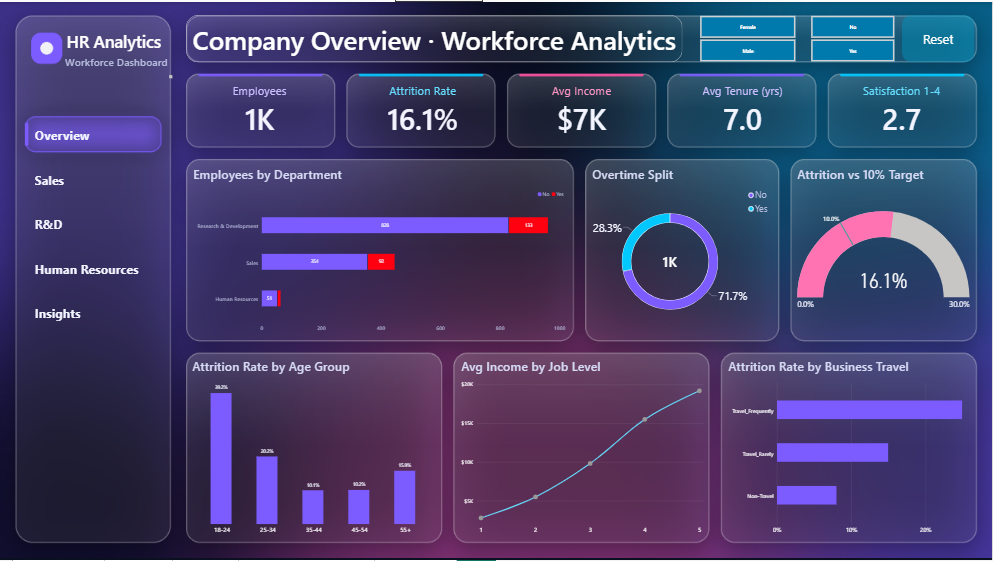

What the dashboard file says about the page in this screenshot:
{"tool":"powerbi","page":{"name":"Overview","canvas":[2560,1440],"ordinal":0},"visuals":[{"type":"actionButton","box":[70,303.3,353.3,76.7],"z":0},{"type":"cardVisual","fields":{"Data":["HR.Page Title"]},"box":[479.1,34,1281.3,122],"z":1000},{"type":"textbox","title":"HR Analytics","box":[165,73.3,256.7,55],"z":2000},{"type":"textbox","title":"Workforce Dashboard","box":[166.7,136.7,276.7,60],"z":3000},{"type":"actionButton","box":[70,765,353,76],"z":4000},{"type":"actionButton","box":[70,420,353,76],"z":5000},{"type":"actionButton","box":[70,650,353,76],"z":6000},{"type":"actionButton","box":[70,535,353,76],"z":7000},{"type":"cardVisual","fields":{"Data":["HR.Total Employees"]},"box":[480,185,380,186.7],"z":8000},{"type":"cardVisual","fields":{"Data":["HR.Attrition Rate"]},"box":[900,186.7,380,186.7],"z":9000},{"type":"cardVisual","fields":{"Data":["HR.Avg Monthly Income"]},"box":[1310,186.7,380,186.7],"z":10000},{"type":"cardVisual","fields":{"Data":["HR.Avg Tenure"]},"box":[1726.7,186.7,380,186.7],"z":11000},{"type":"cardVisual","fields":{"Data":["HR.Avg Job Satisfaction"]},"box":[2136.7,186.7,380,186.7],"z":12000},{"type":"barChart","title":"Employees by Department","fields":{"Category":["HR.Department"],"Series":["HR.Attrition"],"Y":["HR.Total Employees"]},"box":[482,407,993.3,465],"z":13000},{"type":"donutChart","title":"Overtime Split","fields":{"Category":["HR.OverTime"],"Y":["HR.Total Employees"]},"box":[1513.3,406.7,493.3,466.7],"z":14000},{"type":"gauge","title":"Attrition vs 10% Target","fields":{"TargetValue":["HR.Attrition Target"],"Y":["HR.Attrition Rate"]},"box":[2040,406.7,476.7,466.7],"z":15000},{"type":"clusteredColumnChart","title":"Attrition Rate by Age Group","fields":{"Category":["HR.AgeGroup"],"Y":["HR.Attrition Rate"]},"box":[480,903.3,660,490],"z":16000},{"type":"lineChart","title":"Avg Income by Job Level","fields":{"Category":["HR.JobLevel"],"Y":["HR.Avg Monthly Income"]},"box":[1173.3,903.3,656.7,490],"z":17000},{"type":"clusteredBarChart","title":"Attrition Rate by Business Travel","fields":{"Category":["HR.BusinessTravel"],"Y":["HR.Attrition Rate"]},"box":[1863.3,903.3,653.3,490],"z":18000},{"type":"slicer","fields":{"Values":["HR.Gender"]},"box":[1785.8,34,286.3,122],"z":19000},{"type":"slicer","fields":{"Values":["HR.OverTime"]},"box":[2072.1,34,255.1,122],"z":20000},{"type":"actionButton","box":[2327.2,34,187.1,122],"z":21000}]}

Visuals, with their boxes in screenshot pixels (x1, y1, x2, y2), scaled from the page's 2560x1440 canvas onto the 993x561 screenshot:
actionButton: pyautogui.locateOnScreen(27, 118, 164, 148)
cardVisual - HR.Page Title: pyautogui.locateOnScreen(186, 13, 683, 61)
"HR Analytics" textbox: pyautogui.locateOnScreen(64, 29, 164, 50)
"Workforce Dashboard" textbox: pyautogui.locateOnScreen(65, 53, 172, 77)
actionButton: pyautogui.locateOnScreen(27, 298, 164, 328)
actionButton: pyautogui.locateOnScreen(27, 164, 164, 193)
actionButton: pyautogui.locateOnScreen(27, 253, 164, 283)
actionButton: pyautogui.locateOnScreen(27, 208, 164, 238)
cardVisual - HR.Total Employees: pyautogui.locateOnScreen(186, 72, 334, 145)
cardVisual - HR.Attrition Rate: pyautogui.locateOnScreen(349, 73, 496, 145)
cardVisual - HR.Avg Monthly Income: pyautogui.locateOnScreen(508, 73, 656, 145)
cardVisual - HR.Avg Tenure: pyautogui.locateOnScreen(670, 73, 817, 145)
cardVisual - HR.Avg Job Satisfaction: pyautogui.locateOnScreen(829, 73, 976, 145)
"Employees by Department" barChart: pyautogui.locateOnScreen(187, 159, 572, 340)
"Overtime Split" donutChart: pyautogui.locateOnScreen(587, 158, 778, 340)
"Attrition vs 10% Target" gauge: pyautogui.locateOnScreen(791, 158, 976, 340)
"Attrition Rate by Age Group" clusteredColumnChart: pyautogui.locateOnScreen(186, 352, 442, 543)
"Avg Income by Job Level" lineChart: pyautogui.locateOnScreen(455, 352, 710, 543)
"Attrition Rate by Business Travel" clusteredBarChart: pyautogui.locateOnScreen(723, 352, 976, 543)
slicer - HR.Gender: pyautogui.locateOnScreen(693, 13, 804, 61)
slicer - HR.OverTime: pyautogui.locateOnScreen(804, 13, 903, 61)
actionButton: pyautogui.locateOnScreen(903, 13, 975, 61)
